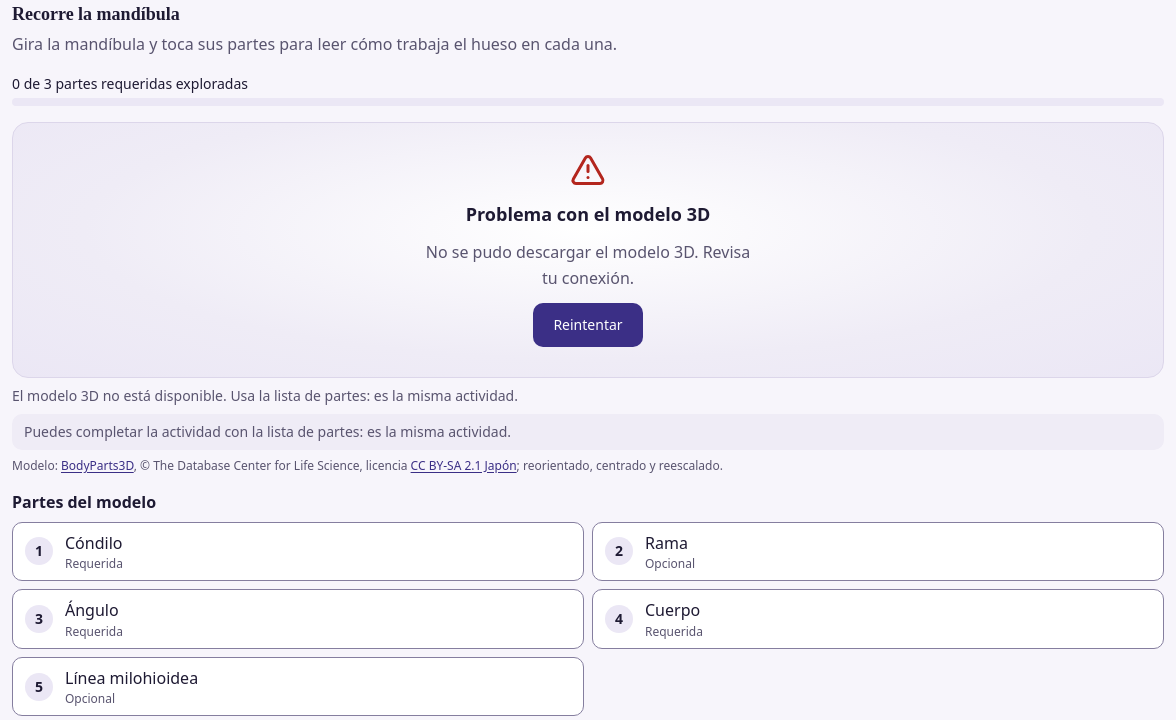
Test: flujo feliz › marca las partes exploradas y cuenta solo las requeridas
The width and height of the screenshot is (1176, 720).
Click the button "2 Rama Opcional": [666, 543] box [592,522,1164,581]
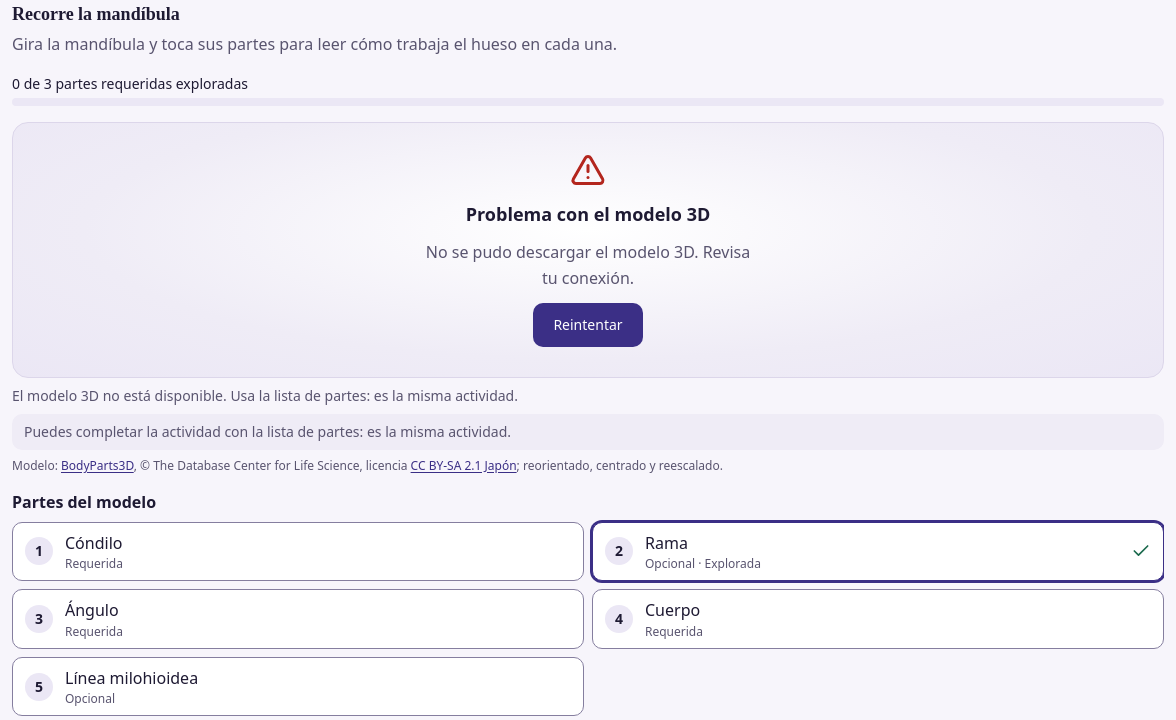
Click the button "1 Cóndilo Requerida": [94, 543] box [12,522,584,581]
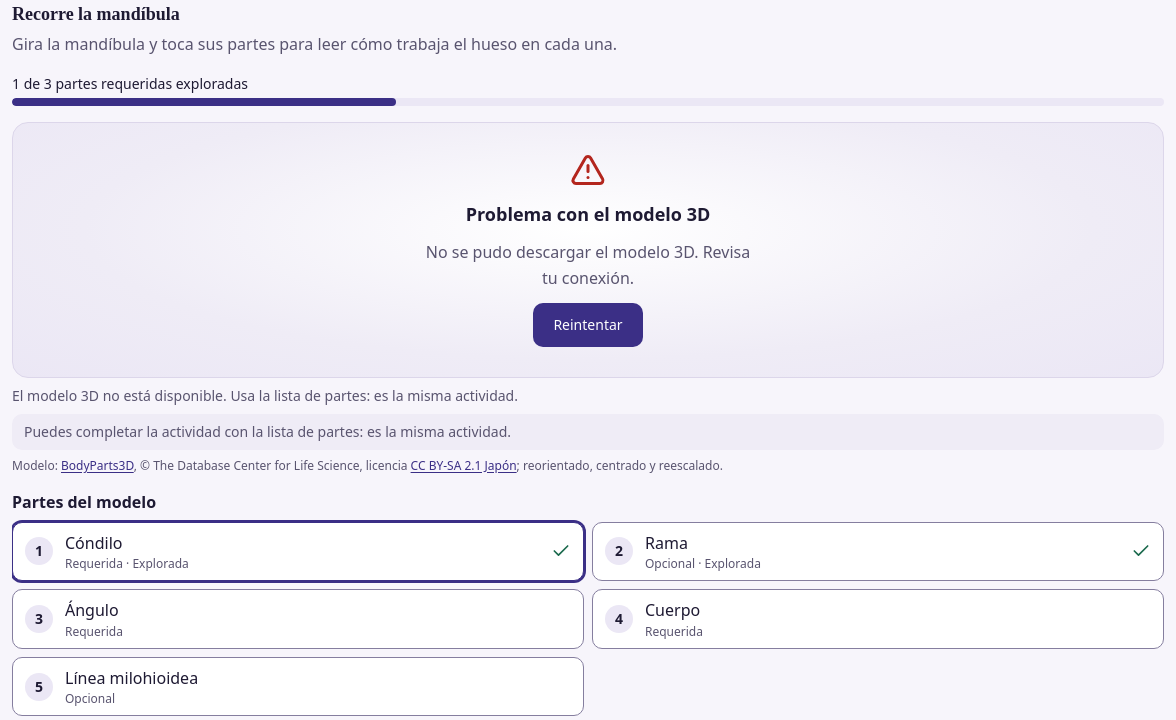
Expected: the button "2 Rama Opcional · Explorada" is shown, [592,522,1164,581]
Result: the button "1 Cóndilo Requerida · Explorada" is shown at [12,522,584,581]
